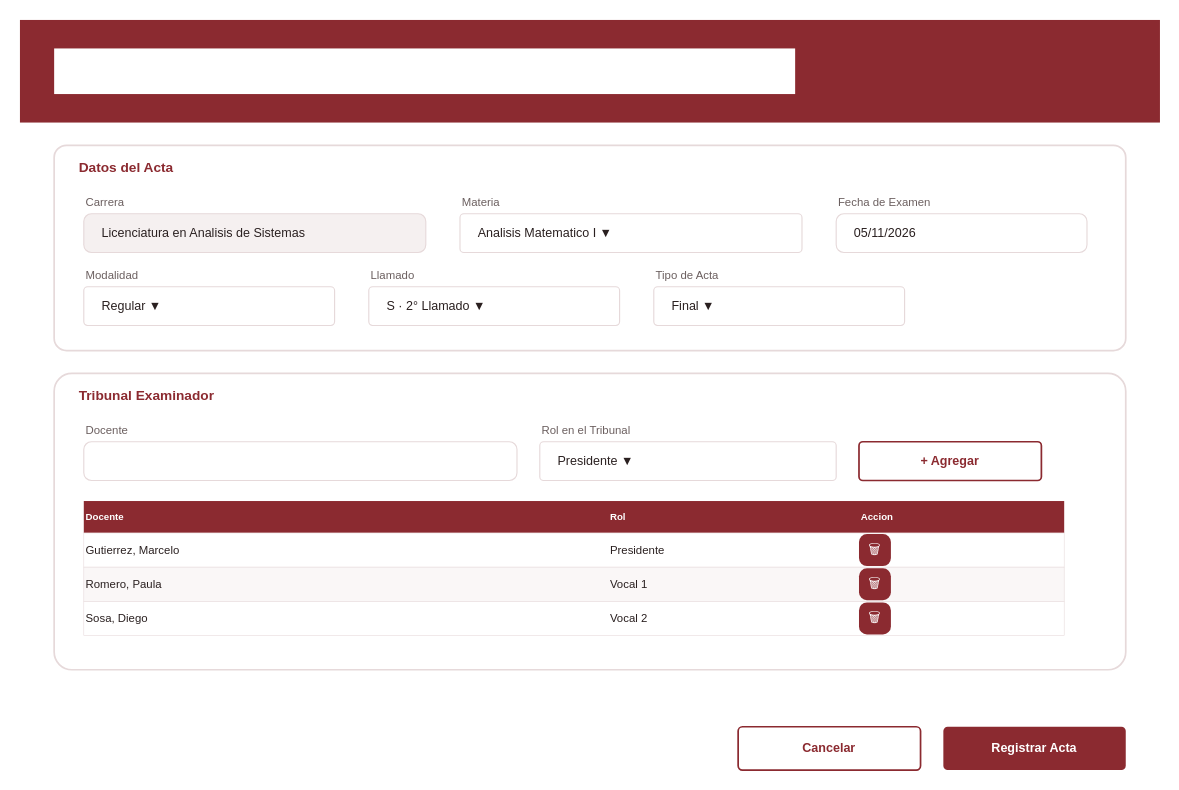
The diagram is 1179 pixels wide and 790 high, and some of its shapes have lost their labels. Here are the shapes that lost their labels. From the top down, the centre of each, then its label:
At (x=424, y=70): "GESTION DE ACTAS EXAMEN".
At (x=300, y=461): "Buscar docente por apellido...".
